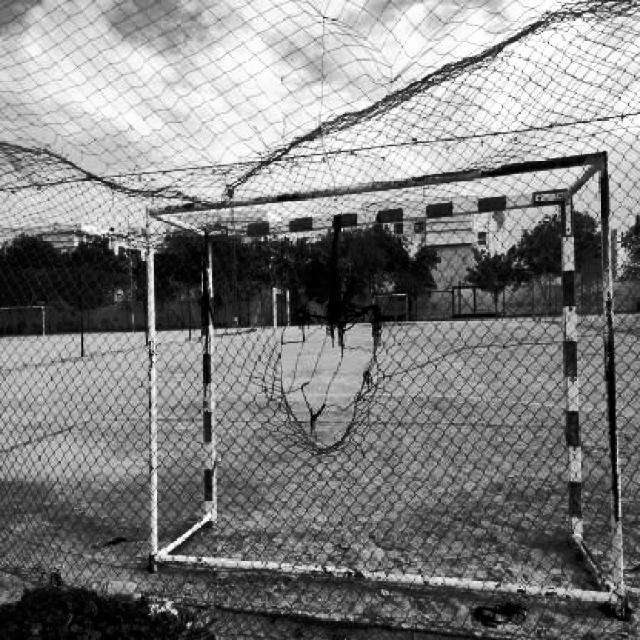anomaly-fence: (246, 252, 409, 482)
